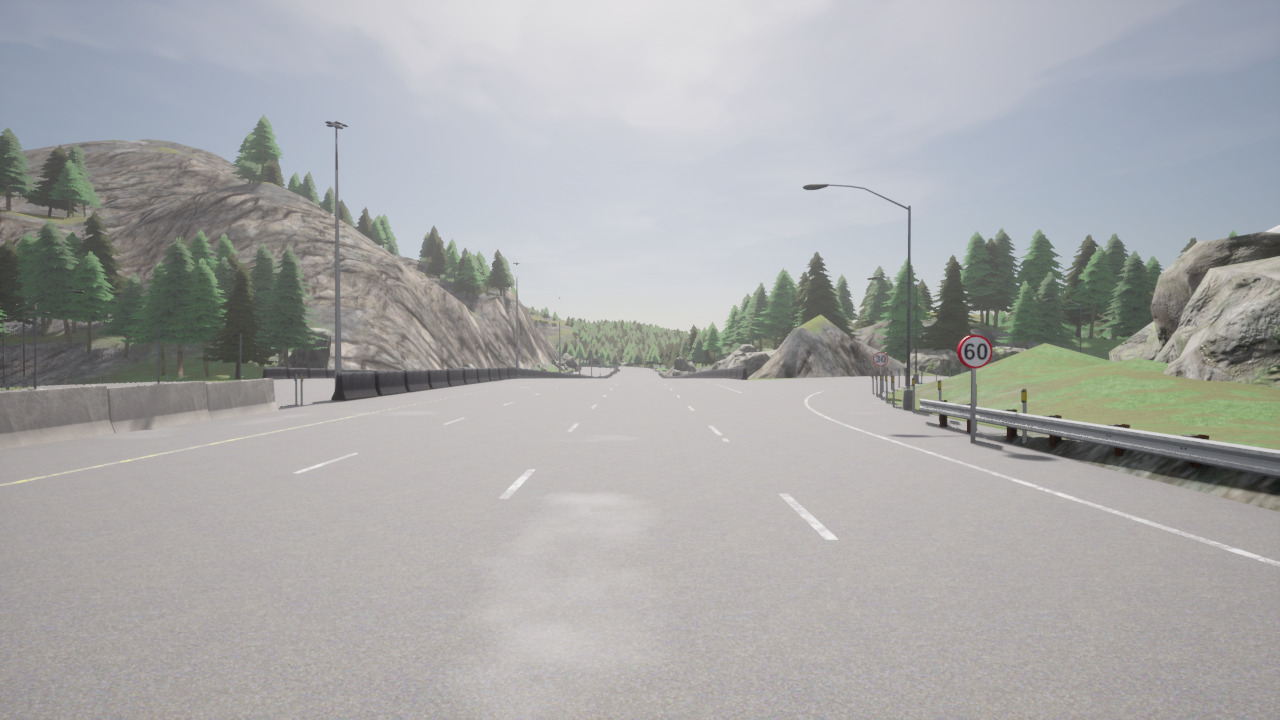sl30: (872, 351, 889, 367)
sl60: (956, 333, 994, 370)
